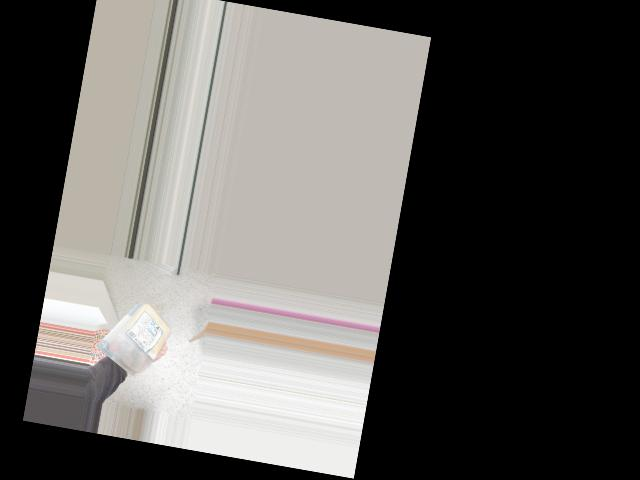cheese: (104, 299, 173, 374)
